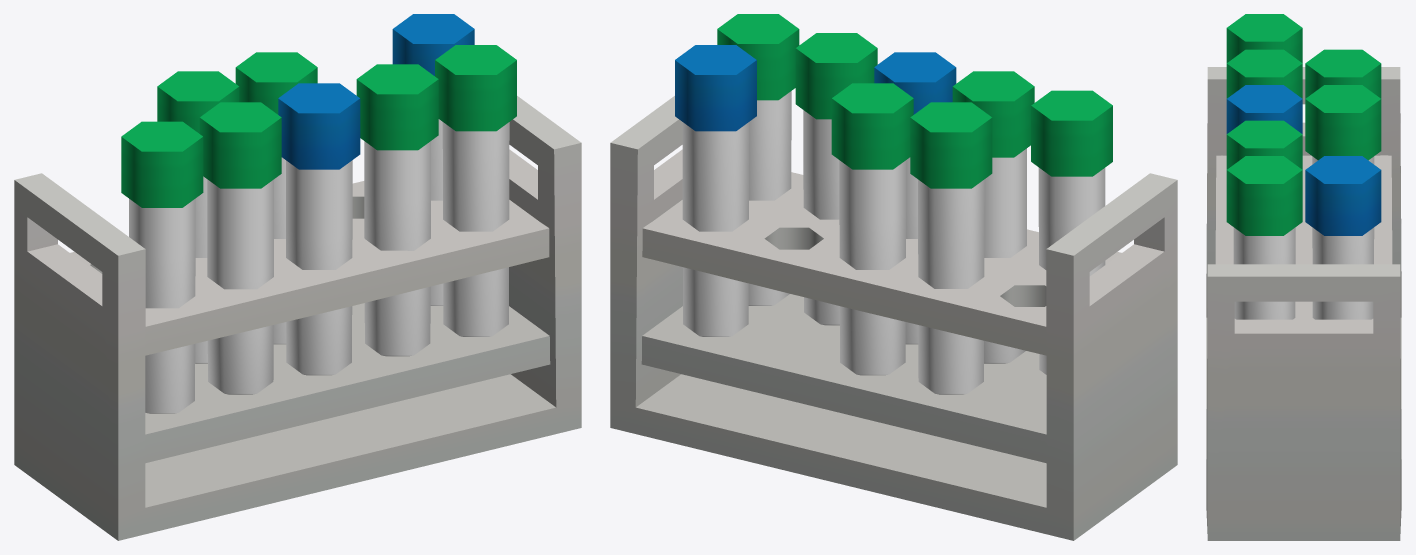
File: Pfb_JLAB_Probe_Rack.fbx
3 renders of one model, left to right at view 1: azimuth 30°, elevation 25°; view 2: azimuth 150°, elevation 25°; view 3: azimuth 270°, elevation 25°, orthographic. The views are drawn at different scales.
Visible parts, largest first — view 1: Color, Glass; view 2: Color, Glass; view 3: Color, Glass.
Boxes of the visible parts, box(x1,y1,x2,y2) form: Color: box(14, 14, 581, 540); Glass: box(129, 119, 509, 413); Color: box(610, 14, 1177, 540); Glass: box(682, 91, 1105, 394); Color: box(1206, 14, 1401, 540); Glass: box(1233, 156, 1374, 319).
Size of the model in its own units: 0.4735 by 0.3529 by 0.1855.
Materials: 2 (2 with a texture image).
